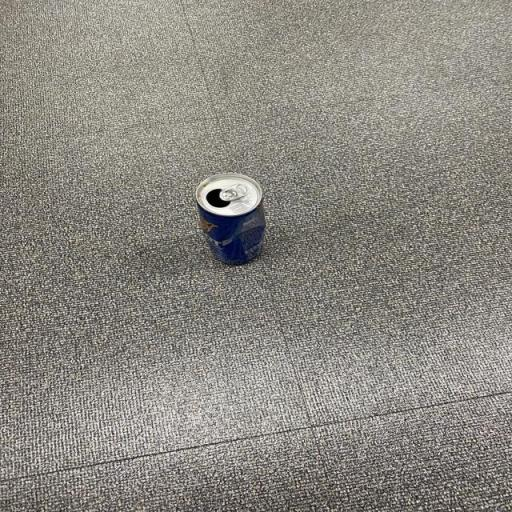metal: (181, 167, 291, 279)
